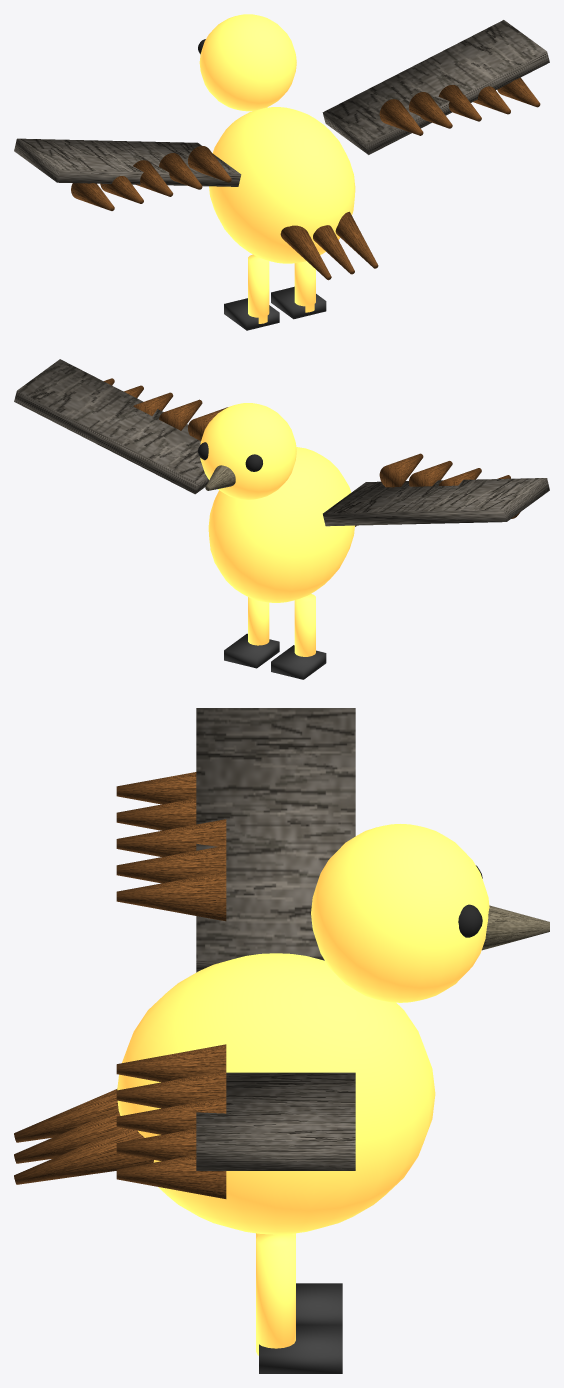
Rendered from phoenix.glb.
The picture shows the model from 3 angles, top to bottom: view 1: azimuth 30°, elevation 25°; view 2: azimuth 150°, elevation 25°; view 3: azimuth 270°, elevation 25°; orthographic projection. The views are drawn at different scales.
Parts seen in each view (by area): view 1: Body, Wing.001, Head, Wing, Leg, TailFeather, Leg.001, TailFeather.002, Foot, Foot.001, Feather.005, Feather (+9 smaller); view 2: Body, Wing.001, Wing, Head, Leg, Foot.001, Foot, Leg.001, Feather, Feather.006, Feather.001, Beak (+2 smaller); view 3: Body, Wing, Head, Wing.001, Leg.001, Feather, Foot.001, TailFeather.002, Feather.009, Feather.001, Feather.005, Feather.006 (+9 smaller).
Part boxes in pixels (bbox=[...]): Body: bbox=[209, 107, 355, 263]; Wing.001: bbox=[322, 20, 549, 154]; Head: bbox=[199, 14, 296, 111]; Wing: bbox=[14, 138, 241, 186]; Leg: bbox=[248, 254, 269, 323]; TailFeather: bbox=[280, 225, 331, 280]; Leg.001: bbox=[294, 261, 315, 312]; TailFeather.002: bbox=[335, 211, 378, 268]; Foot: bbox=[224, 298, 279, 330]; Foot.001: bbox=[271, 286, 326, 319]; Feather.005: bbox=[379, 99, 423, 135]; Feather: bbox=[188, 146, 231, 182]; Body: bbox=[208, 447, 354, 602]; Wing.001: bbox=[14, 359, 208, 494]; Wing: bbox=[323, 478, 549, 526]; Head: bbox=[200, 403, 296, 499]; Leg: bbox=[294, 594, 315, 656]; Foot.001: bbox=[224, 633, 279, 668]; Foot: bbox=[271, 645, 326, 679]; Leg.001: bbox=[248, 597, 269, 645]; Feather: bbox=[379, 453, 423, 487]; Feather.006: bbox=[159, 399, 202, 430]; Feather.001: bbox=[409, 461, 452, 486]; Beak: bbox=[205, 465, 235, 490]; Body: bbox=[117, 953, 435, 1234]; Wing: bbox=[196, 708, 355, 972]; Head: bbox=[311, 824, 489, 1002]; Wing.001: bbox=[196, 1072, 355, 1170]; Leg.001: bbox=[256, 1234, 295, 1355]; Feather: bbox=[116, 872, 226, 921]; Foot.001: bbox=[259, 1325, 342, 1373]; TailFeather.002: bbox=[14, 1128, 153, 1184]; Feather.009: bbox=[116, 1155, 226, 1198]; Feather.001: bbox=[116, 845, 226, 883]; Feather.005: bbox=[116, 1044, 226, 1082]; Feather.006: bbox=[116, 1070, 226, 1108].
Size of the model in its own units: 1.88 by 1 by 0.9601.
Materials: 6 (3 with a texture image).
